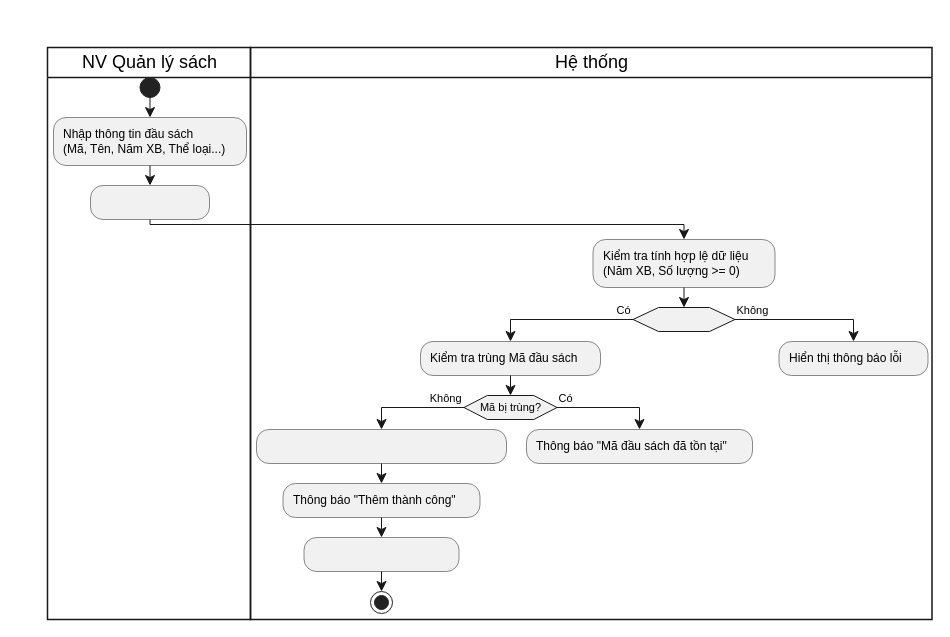
Some shapes in this 950 by 637 pixel diagram are drawn without their labels. Each missing label, with the centre of its shape:
Cập nhật DataGridView: (x=381, y=554)
Dữ liệu hợp lệ?: (x=683, y=319)
Lưu thông tin vào CSDL (bảng DauSach): (x=381, y=446)
Nhấn nút "Thêm": (x=149, y=202)
